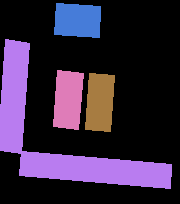parkingspot: (19, 151, 171, 188), (0, 39, 29, 153), (53, 70, 83, 129), (85, 73, 114, 131), (54, 3, 100, 37)
